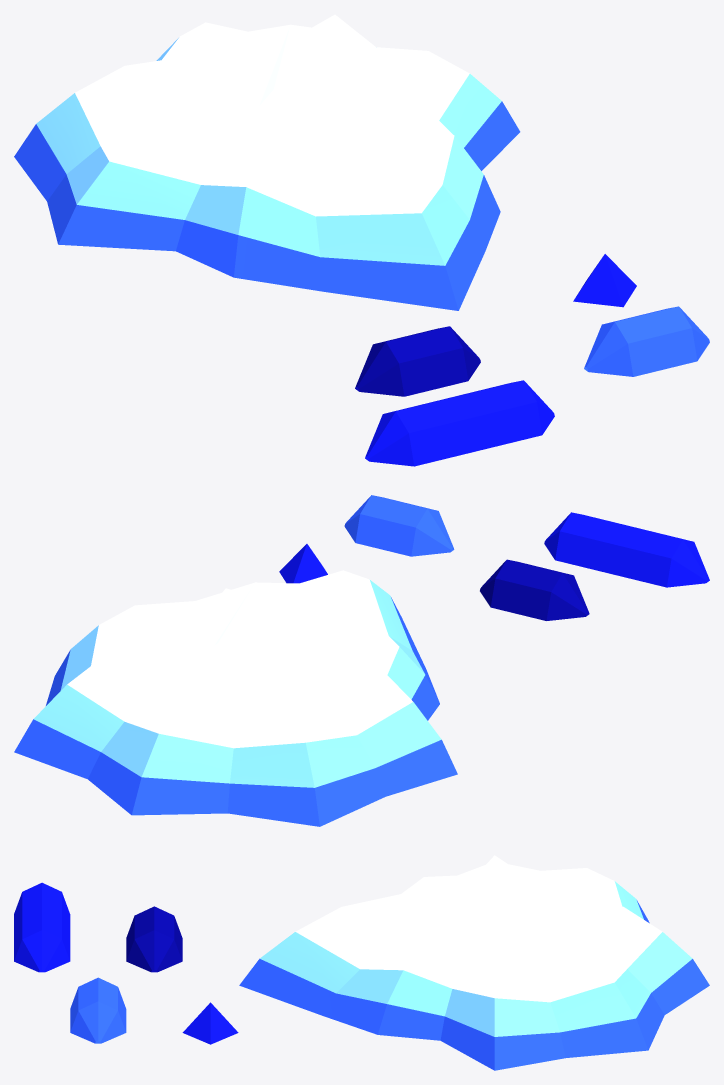
The model's file is shot_ice_144.glb.
3 renders of one model, top to bottom at view 1: azimuth 30°, elevation 25°; view 2: azimuth 150°, elevation 25°; view 3: azimuth 270°, elevation 25°, orthographic. The views are drawn at different scales.
Visible parts, largest first — view 1: shot_ice_144_cap, shot_ice_144_trail; view 2: shot_ice_144_cap, shot_ice_144_trail; view 3: shot_ice_144_cap, shot_ice_144_trail.
Part boxes in pixels (x1,y1,x2,y2): shot_ice_144_cap: (14, 14, 520, 310); shot_ice_144_trail: (355, 254, 709, 466); shot_ice_144_cap: (14, 570, 457, 826); shot_ice_144_trail: (279, 495, 709, 620); shot_ice_144_cap: (239, 855, 709, 1070); shot_ice_144_trail: (14, 882, 238, 1044).
Size of the model in its own units: 7.22 by 2.44 by 12.39.
